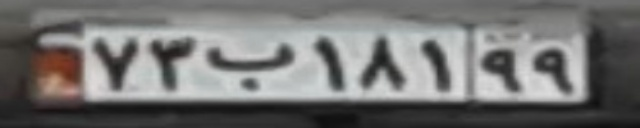1: (315, 34, 346, 93), (420, 38, 452, 92)
3: (154, 33, 198, 89)
7: (94, 34, 137, 91)
8: (355, 37, 405, 91)
9: (478, 46, 522, 92), (534, 46, 574, 95)
be: (205, 41, 296, 92)
